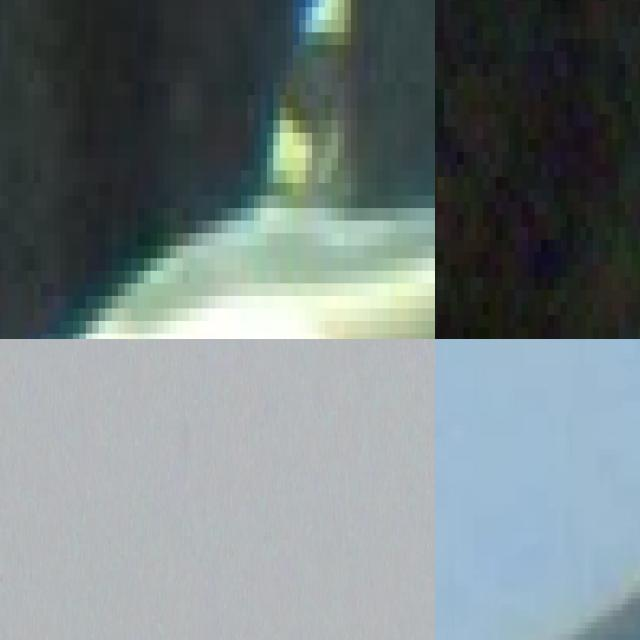fish: (0, 0, 435, 339)
